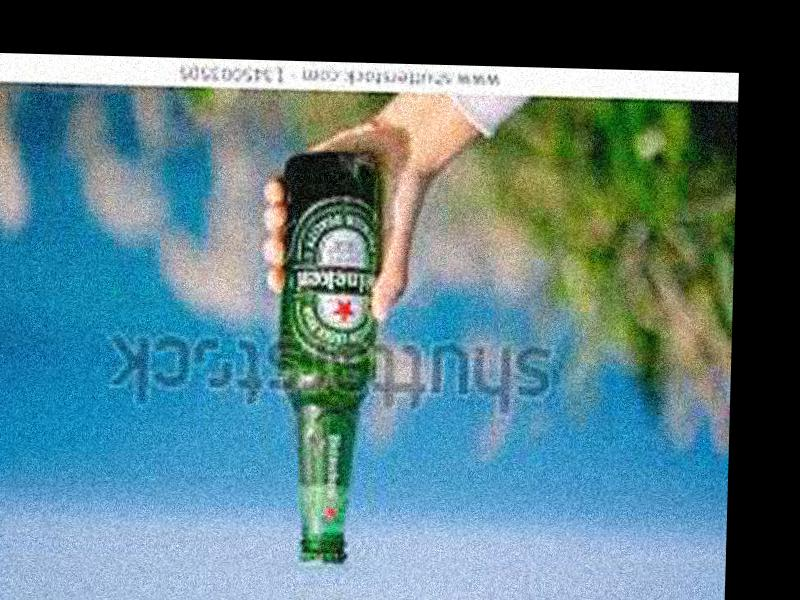Beer: (274, 155, 386, 567)
